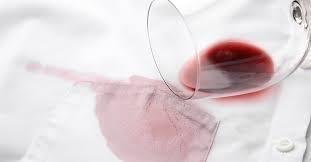wine: (86, 76, 213, 162), (36, 55, 116, 97)
